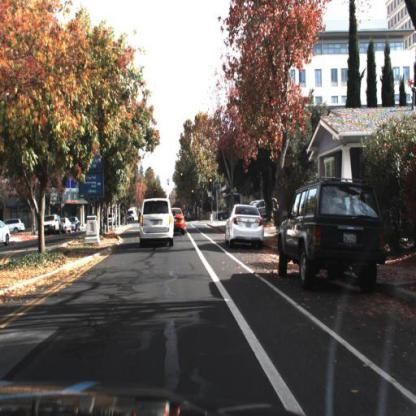car: (273, 175, 392, 295), (223, 199, 266, 249), (136, 195, 175, 249), (250, 196, 278, 222), (38, 209, 60, 238), (173, 204, 189, 240), (6, 216, 26, 234), (58, 215, 74, 233), (66, 214, 82, 230), (214, 206, 230, 222), (60, 215, 72, 235)
trafficLight-Red: (208, 173, 215, 196), (178, 171, 185, 187), (190, 185, 195, 205), (209, 176, 213, 191), (180, 171, 184, 183), (190, 187, 194, 199)
trafficLight-RedLeft: (152, 185, 160, 197), (152, 186, 157, 199)
